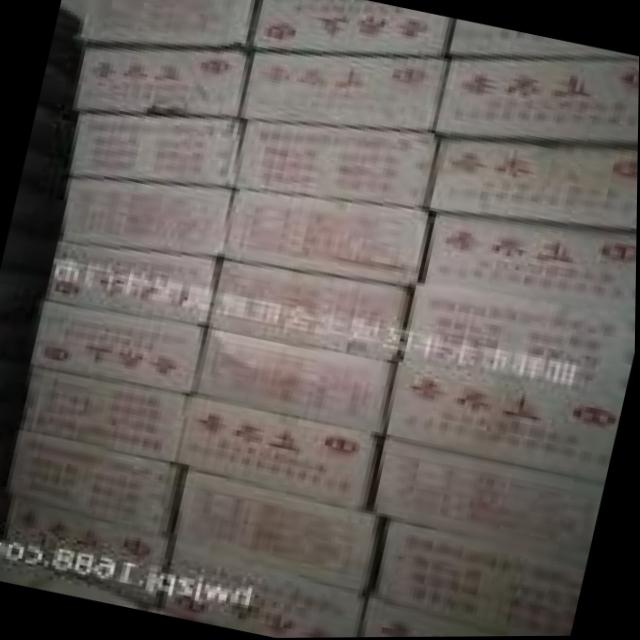box: (374, 437, 605, 565), (390, 362, 624, 485), (399, 288, 636, 403), (371, 518, 588, 637), (174, 467, 381, 591), (179, 393, 379, 511), (191, 325, 396, 437), (420, 212, 637, 316), (220, 188, 430, 288), (210, 260, 415, 362), (165, 536, 367, 638), (430, 135, 638, 232), (2, 494, 171, 611), (435, 57, 639, 144), (236, 118, 435, 207), (7, 429, 178, 532), (240, 51, 443, 133), (31, 301, 206, 393), (21, 366, 186, 462), (46, 244, 220, 325), (58, 178, 232, 257), (69, 111, 240, 188), (76, 43, 248, 117), (248, 0, 453, 56), (79, 0, 256, 50), (364, 601, 514, 638)
